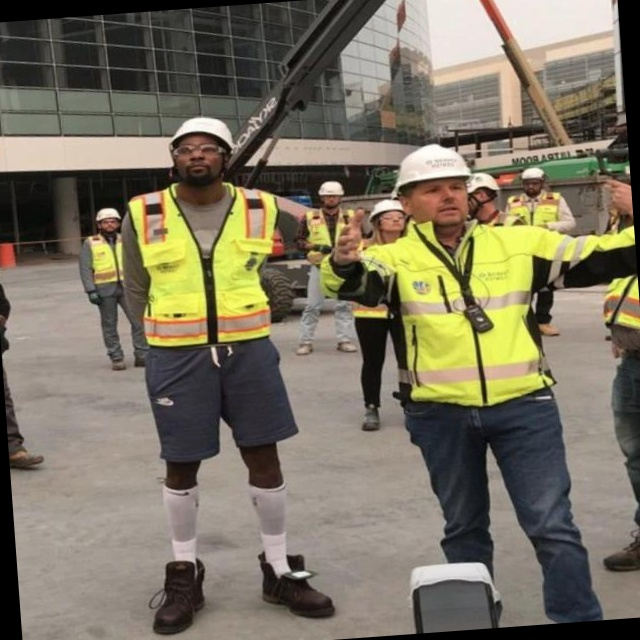goggles: (393, 131, 457, 150)
helmet: (161, 150, 231, 192), (397, 104, 451, 136)
vest: (96, 237, 254, 427), (355, 179, 507, 355)
